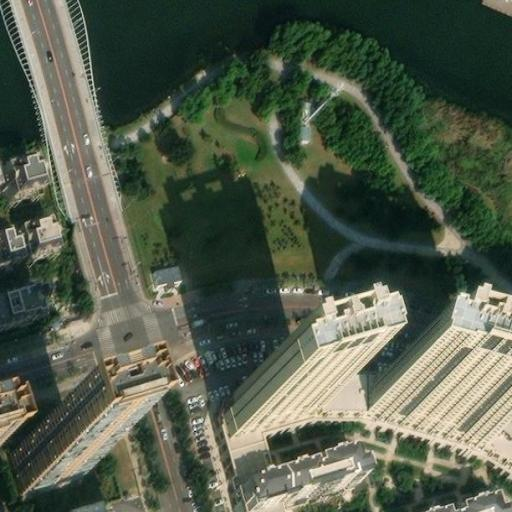building: (293, 366, 512, 451), (371, 355, 502, 432), (217, 406, 289, 512), (246, 448, 371, 508), (228, 354, 328, 423), (15, 424, 93, 486), (22, 206, 64, 247), (10, 145, 51, 183), (0, 215, 31, 254), (151, 258, 181, 286), (460, 495, 506, 512), (234, 376, 247, 394)
